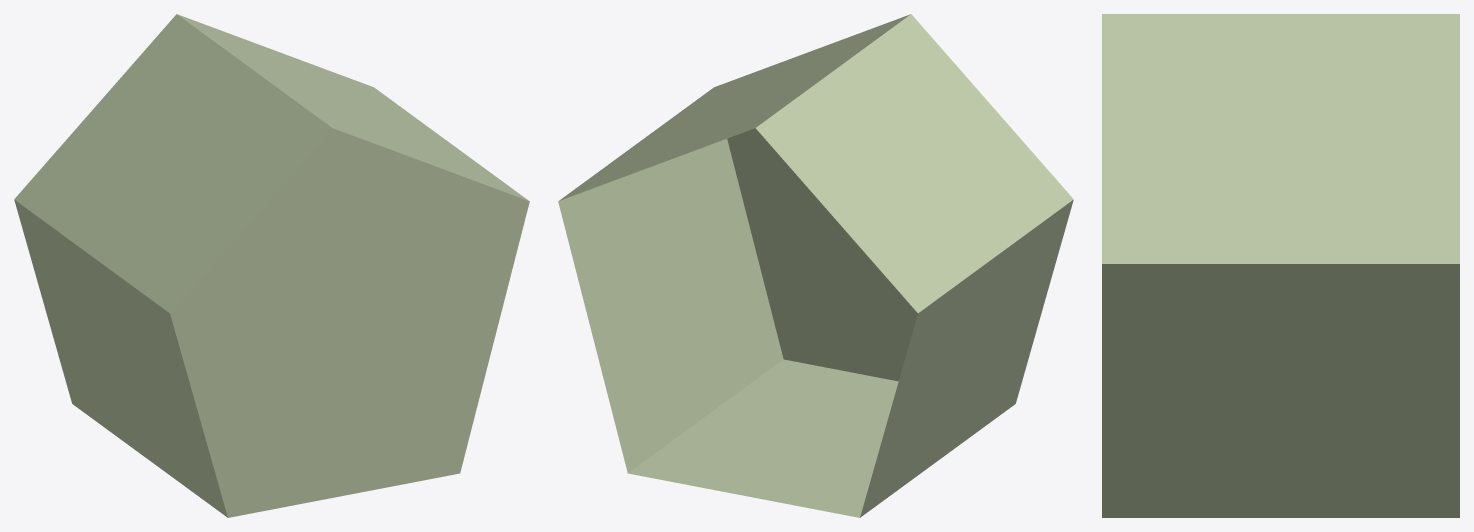
Rendered from vegetation.glb.
The picture shows the model from 3 angles, left to right: view 1: azimuth 30°, elevation 25°; view 2: azimuth 150°, elevation 25°; view 3: azimuth 270°, elevation 25°; orthographic projection. The views are drawn at different scales.
Parts seen in each view (by area): view 1: vegetation; view 2: vegetation; view 3: vegetation.
Part boxes in pixels (bbox=[...]): vegetation: bbox=[14, 14, 529, 517]; vegetation: bbox=[558, 14, 1073, 517]; vegetation: bbox=[1102, 14, 1459, 517].
Size of the model in its own units: 271 by 271 by 203.
